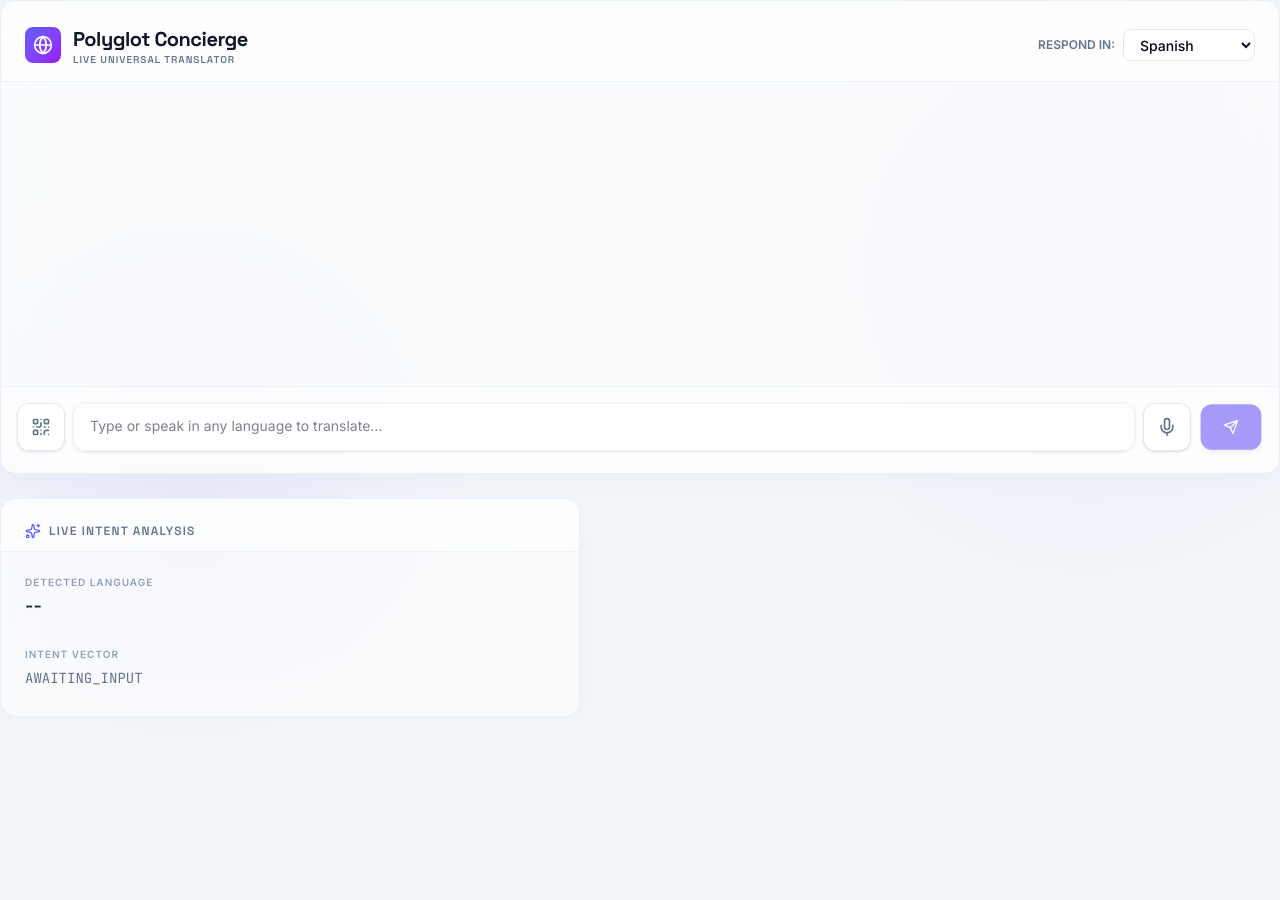
Scenario: PolyglotConcierge › shows error state on failure
Type "Hello" into the text box with placeholder "Type or speak in any language to translate...".
click(604, 427); type("Hello")  # box left=73, top=403, right=1135, bottom=451
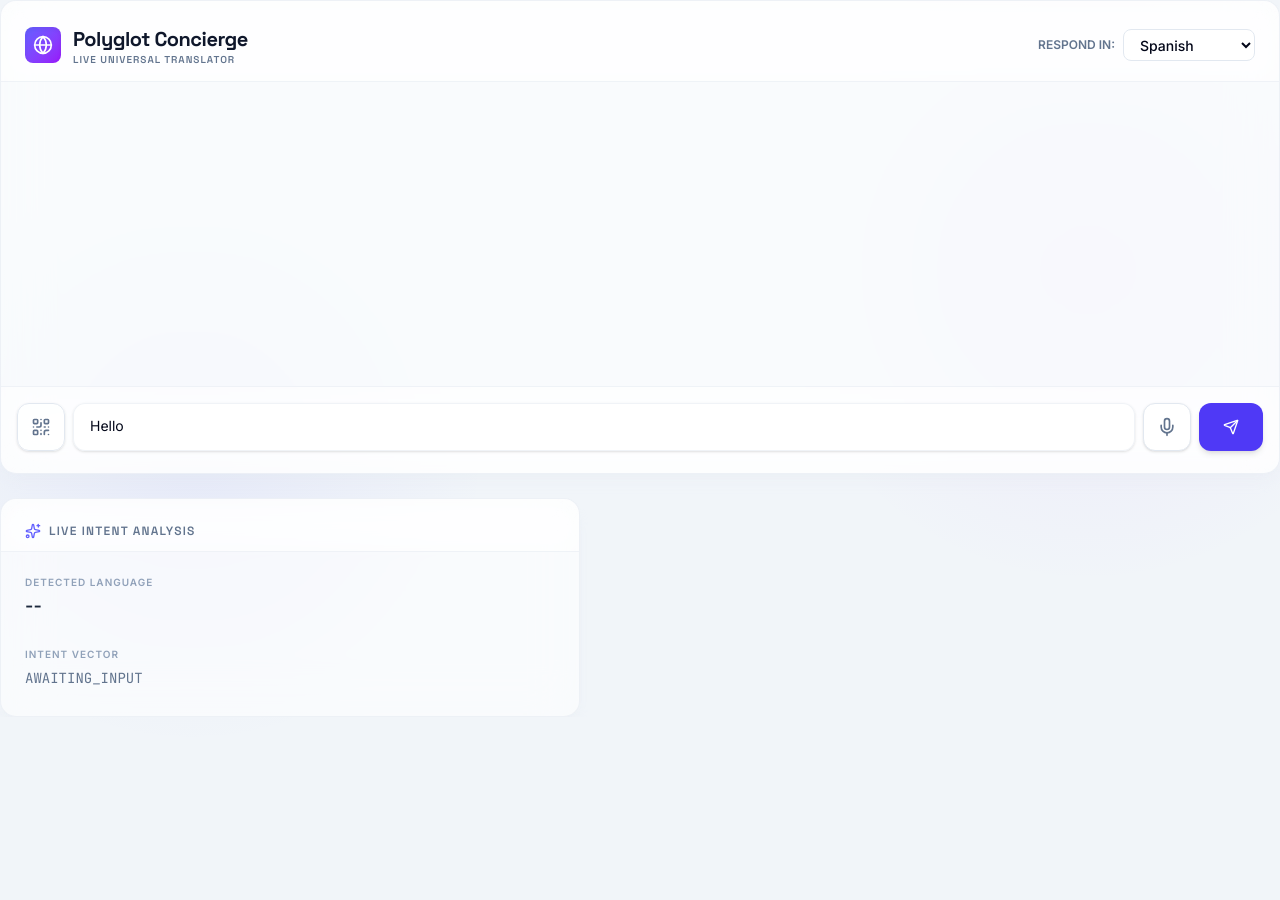
Press Enter in the text box with placeholder "Type or speak in any language to translate...", box left=73, top=403, right=1135, bottom=451
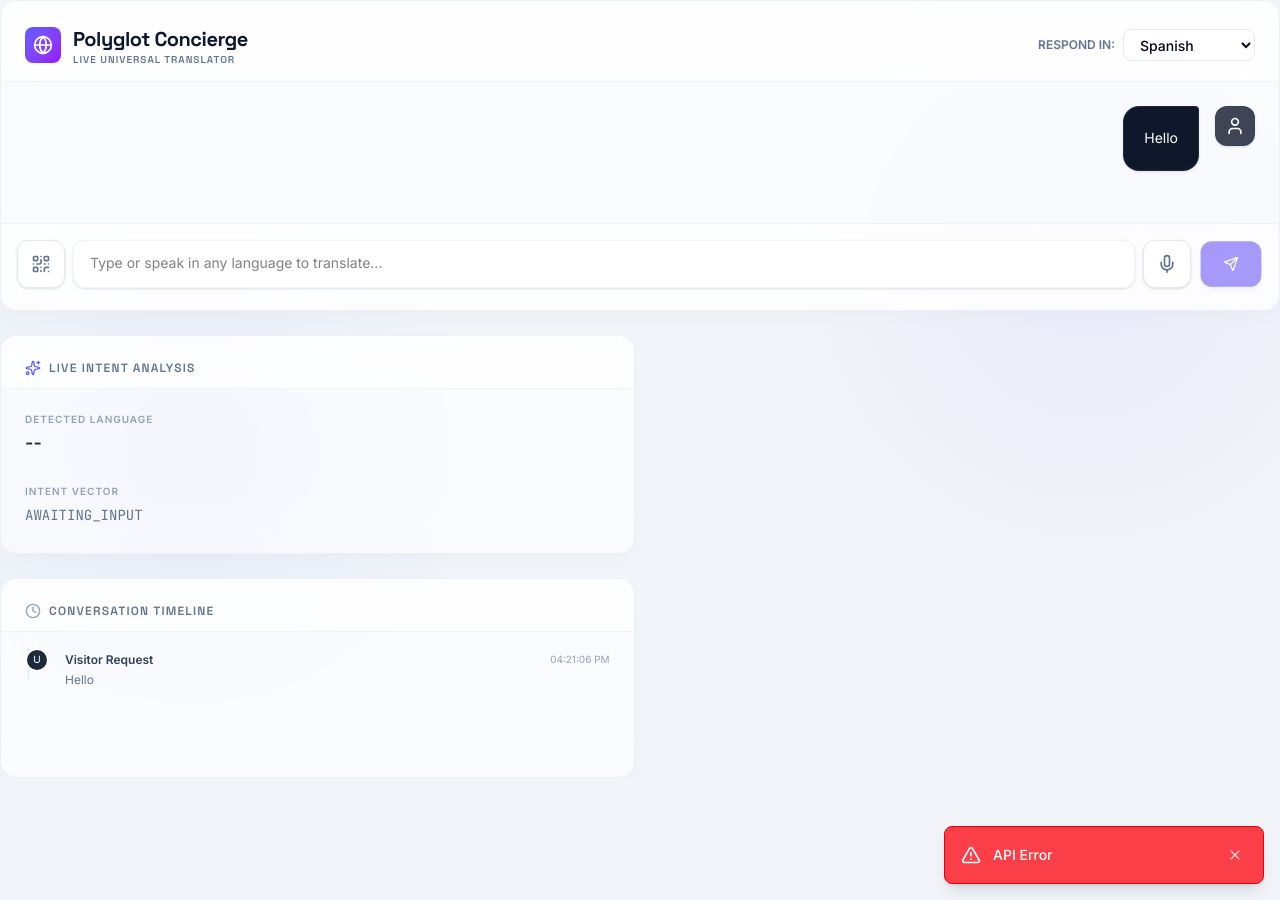
Expected: the text "API Error" is shown, left=993, top=845, right=1052, bottom=865
